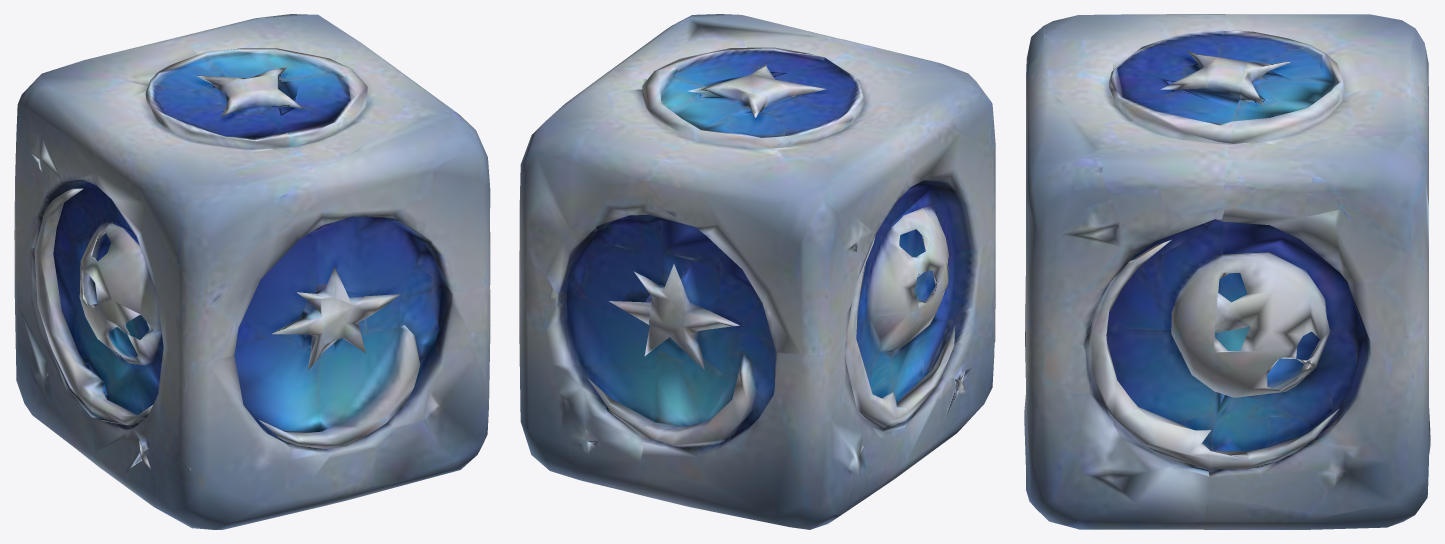
File: moon.glb
3 views of the same model, side by side, from view 1: azimuth 30°, elevation 25°; view 2: azimuth 150°, elevation 25°; view 3: azimuth 270°, elevation 25° (orthographic). The views are drawn at different scales.
Visible parts, largest first — view 1: tripo_node_1d35ec14-207a-4f86-81d4-66e1c1026da5; view 2: tripo_node_1d35ec14-207a-4f86-81d4-66e1c1026da5; view 3: tripo_node_1d35ec14-207a-4f86-81d4-66e1c1026da5.
Part boxes in pixels (x1,y1,x2,y2): tripo_node_1d35ec14-207a-4f86-81d4-66e1c1026da5: [14, 14, 490, 529]; tripo_node_1d35ec14-207a-4f86-81d4-66e1c1026da5: [519, 14, 995, 529]; tripo_node_1d35ec14-207a-4f86-81d4-66e1c1026da5: [1024, 14, 1430, 529].
Size of the model in its own units: 0.9746 by 0.9804 by 0.9228.
Materials: 1 (1 with a texture image).
